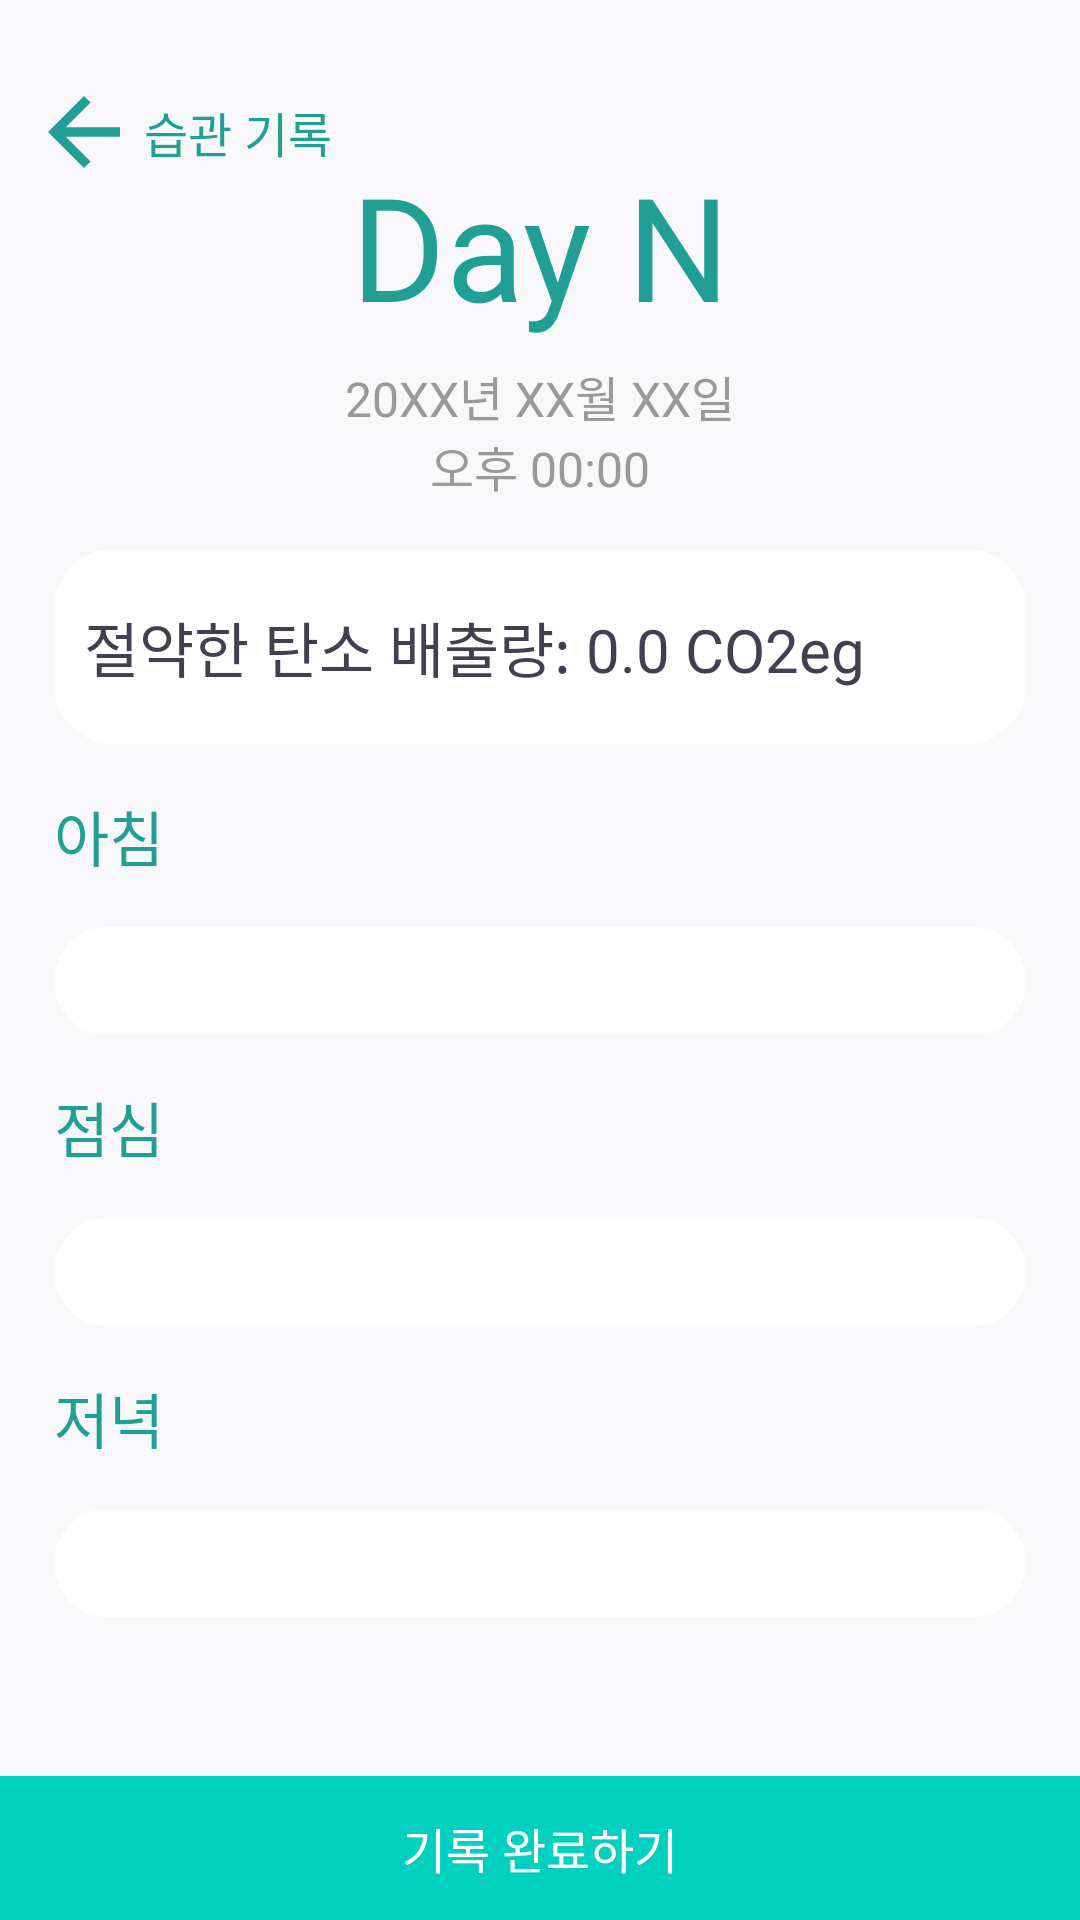

Screen size 1080×1920. Icon name, then its center in pixels as point (x, y):
backward arrow: point (84, 132)
